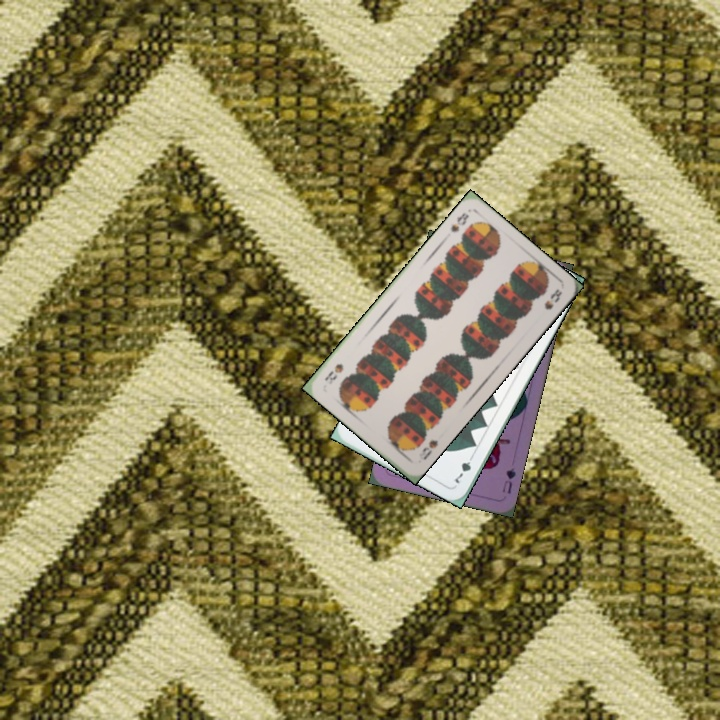G7: (451, 450, 477, 487)
GU: (498, 464, 518, 496)
S8: (415, 436, 441, 463), (447, 208, 472, 235)
